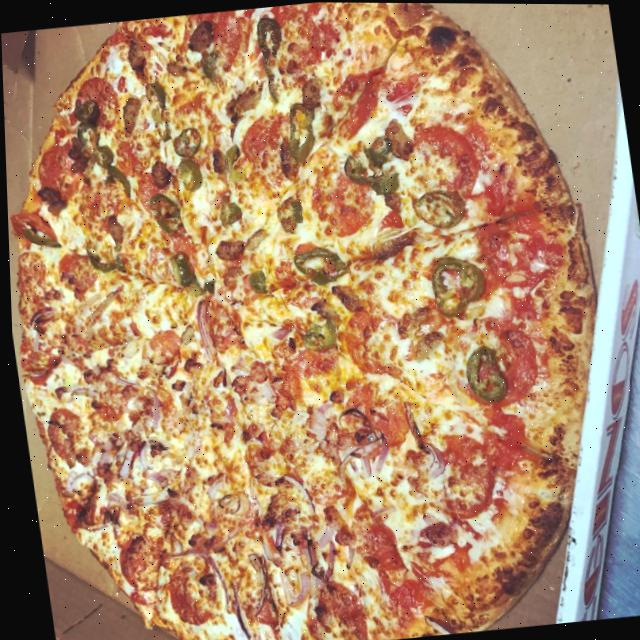pepperoni: (441, 310, 539, 410), (403, 429, 495, 523), (399, 119, 481, 216), (336, 376, 410, 455), (305, 160, 375, 239), (325, 61, 392, 141), (271, 2, 342, 74), (176, 8, 248, 79), (341, 497, 401, 576), (297, 575, 364, 640), (337, 306, 393, 376), (159, 560, 212, 627), (234, 109, 292, 169), (32, 139, 83, 205), (67, 72, 120, 134), (238, 429, 289, 488), (110, 535, 159, 594), (39, 403, 83, 459), (54, 247, 97, 297), (10, 248, 46, 300), (7, 207, 54, 243)
pizza: (0, 0, 640, 640)
